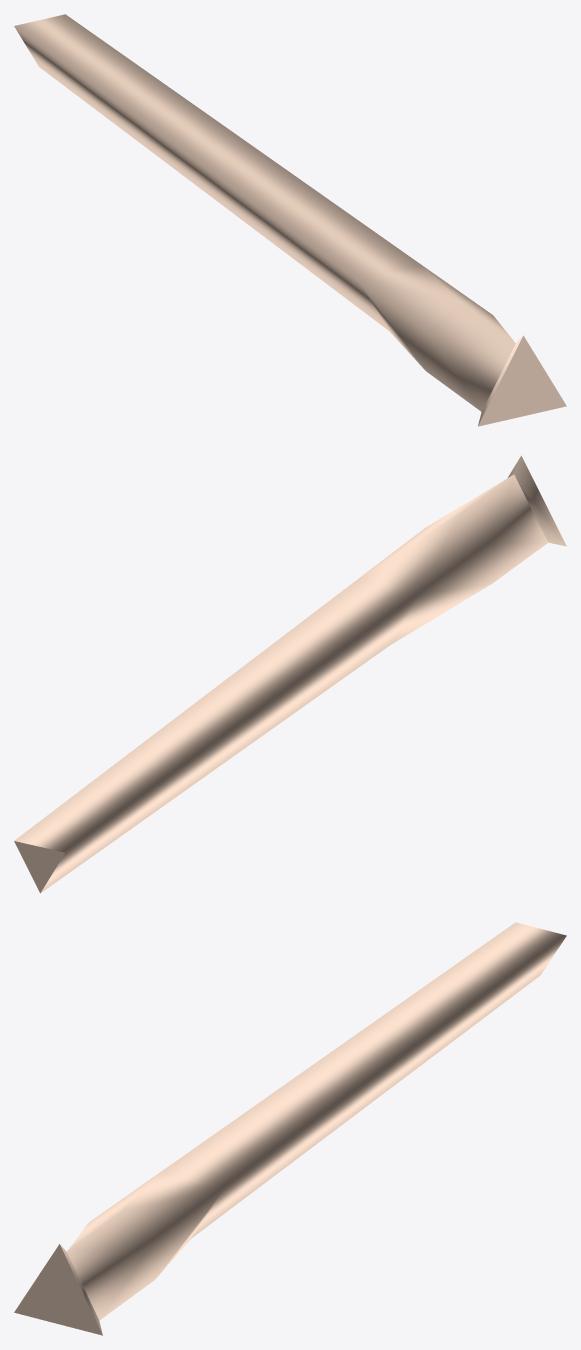
Rendered from Goupille roue_Roue d arret Heures.obj.
3 views of the same model, one above another, from view 1: azimuth 30°, elevation 25°; view 2: azimuth 150°, elevation 25°; view 3: azimuth 330°, elevation 25° (orthographic).
Parts seen in each view (by area): view 1: Face_1, Face_3, Face_5; view 2: Face_1, Face_3, Face_4, Face_2; view 3: Face_1, Face_3, Face_5.
Boxes of the visible parts, <box> form: Face_1: <box>14,14,492,370</box>; Face_3: <box>426,302,515,411</box>; Face_5: <box>478,335,566,426</box>; Face_1: <box>14,515,492,892</box>; Face_3: <box>427,474,548,582</box>; Face_4: <box>508,455,566,546</box>; Face_2: <box>14,841,64,893</box>; Face_1: <box>90,922,566,1279</box>; Face_3: <box>67,1211,155,1320</box>; Face_5: <box>14,1244,102,1335</box>.
Bounding box in the file's own units: 0.00139 × 0.0014 × 0.013.
